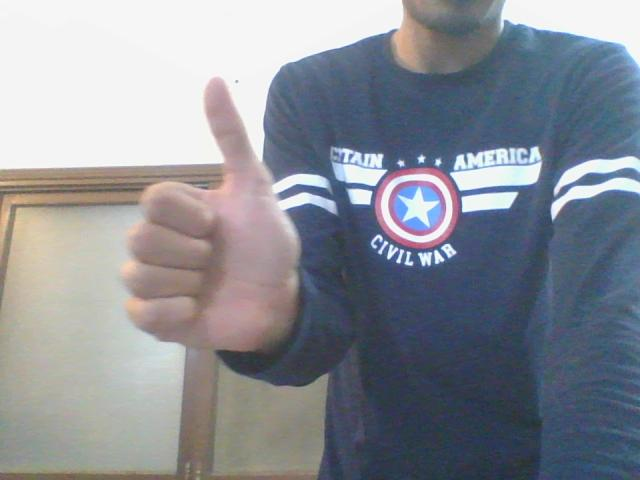thumbs-up: (115, 79, 299, 357)
